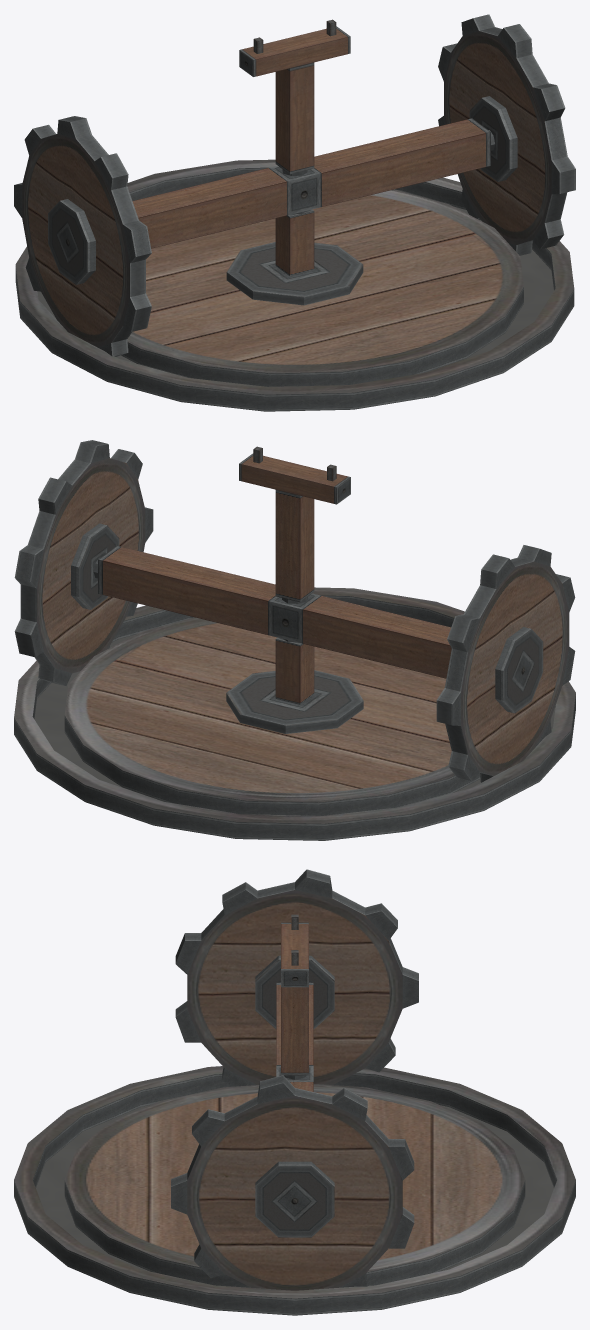
Rendered from Bolas Placeholder.fbx.
3 renders of one model, top to bottom at view 1: azimuth 30°, elevation 25°; view 2: azimuth 150°, elevation 25°; view 3: azimuth 270°, elevation 25°, orthographic.
Parts seen in each view (by area): view 1: polySurface60; view 2: polySurface60; view 3: polySurface60.
Boxes of the visible parts, box(x1,y1,x2,y2) form: polySurface60: box(14, 14, 575, 411); polySurface60: box(14, 440, 575, 840); polySurface60: box(14, 869, 575, 1315).
Size of the model in its own units: 150 by 80 by 150.
1 material, 1 textured.
